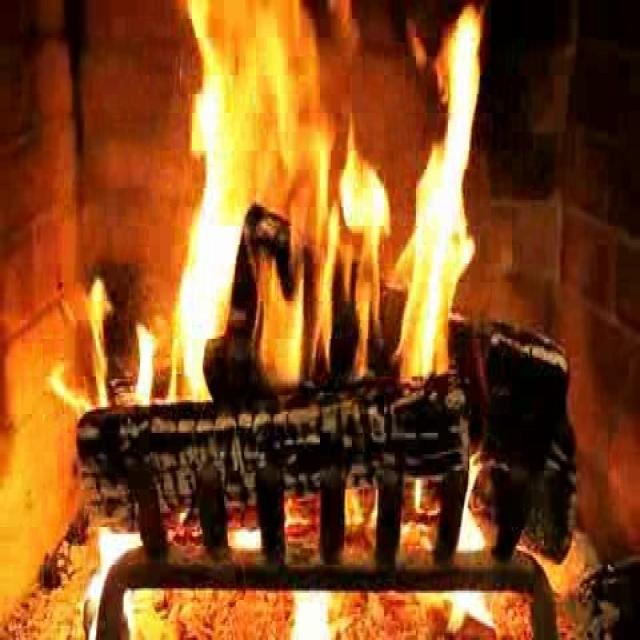fire: (162, 1, 489, 396)
